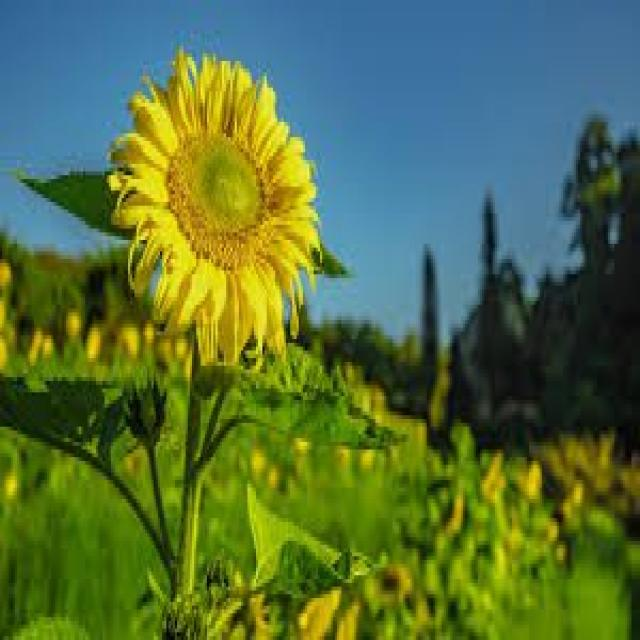sunflower: (114, 27, 328, 384)
